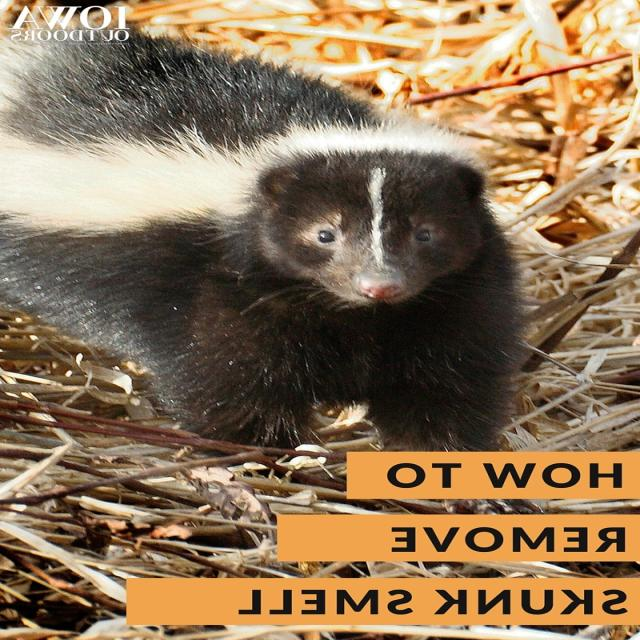Skunk: (0, 0, 534, 472)
